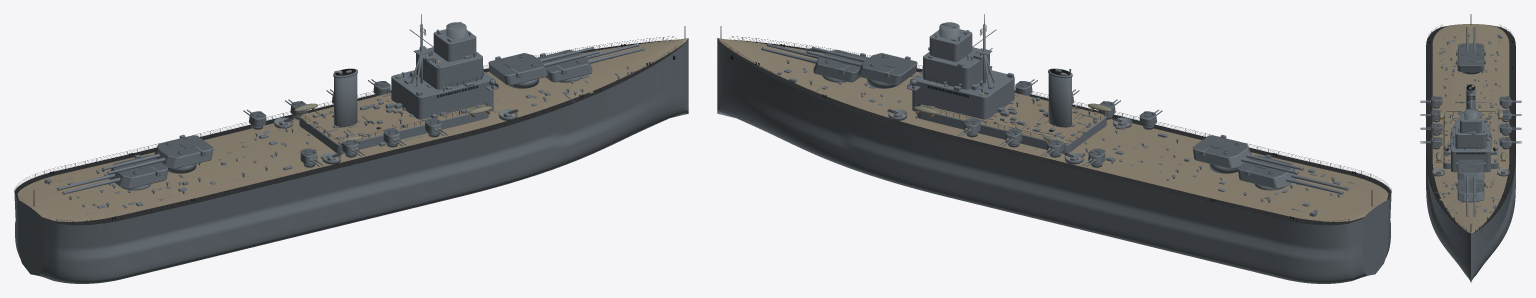
Rendered from colorado.glb.
3 renders of one model, left to right at view 1: azimuth 30°, elevation 25°; view 2: azimuth 150°, elevation 25°; view 3: azimuth 270°, elevation 25°, orthographic. The views are drawn at different scales.
Parts seen in each view (by area): view 1: colorado, T_2_malla, T_1_malla, T_3_malla, T_0_malla, C_3, C_2, C_1; view 2: colorado, T_2_malla, T_1_malla, T_3_malla, T_0_malla, C_3, C_2, C_1; view 3: colorado, T_0_malla, T_1_malla, T_2_malla, T_3_malla, C_1, T_10_malla, T_11_malla, C_0, T_4_malla, T_5_malla, T_6_malla (+4 smaller).
Part boxes in pixels (x1,y1,x2,y2): colorado: [14, 14, 688, 283]; T_2_malla: [154, 134, 213, 169]; T_1_malla: [488, 53, 547, 85]; T_3_malla: [110, 154, 168, 189]; T_0_malla: [537, 49, 592, 82]; C_3: [57, 173, 120, 194]; C_2: [102, 153, 165, 174]; C_1: [539, 46, 599, 66]; colorado: [717, 14, 1391, 283]; T_2_malla: [1192, 134, 1251, 169]; T_1_malla: [858, 53, 917, 85]; T_3_malla: [1237, 154, 1295, 189]; T_0_malla: [813, 49, 868, 82]; C_3: [1285, 173, 1348, 194]; C_2: [1240, 153, 1303, 174]; C_1: [806, 46, 866, 66]; colorado: [1426, 14, 1515, 282]; T_0_malla: [1456, 179, 1485, 201]; T_1_malla: [1456, 159, 1485, 180]; T_2_malla: [1456, 51, 1485, 71]; T_3_malla: [1456, 43, 1485, 57]; C_1: [1466, 176, 1475, 196]; T_10_malla: [1430, 96, 1442, 106]; T_11_malla: [1499, 96, 1511, 106]; C_0: [1466, 196, 1475, 216]; T_4_malla: [1430, 137, 1442, 147]; T_5_malla: [1499, 137, 1511, 147]; T_6_malla: [1430, 123, 1442, 133].
Bounding box in the file's own units: 190 × 45.5 × 37.86.
